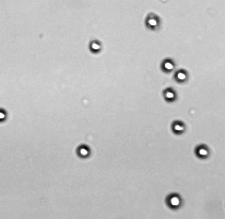Living Cell: (75, 142, 93, 160), (165, 192, 184, 209), (143, 13, 162, 29), (169, 119, 187, 135), (87, 38, 103, 55), (194, 143, 211, 159), (162, 86, 178, 102), (175, 66, 189, 84), (160, 57, 175, 72), (1, 107, 8, 124)
